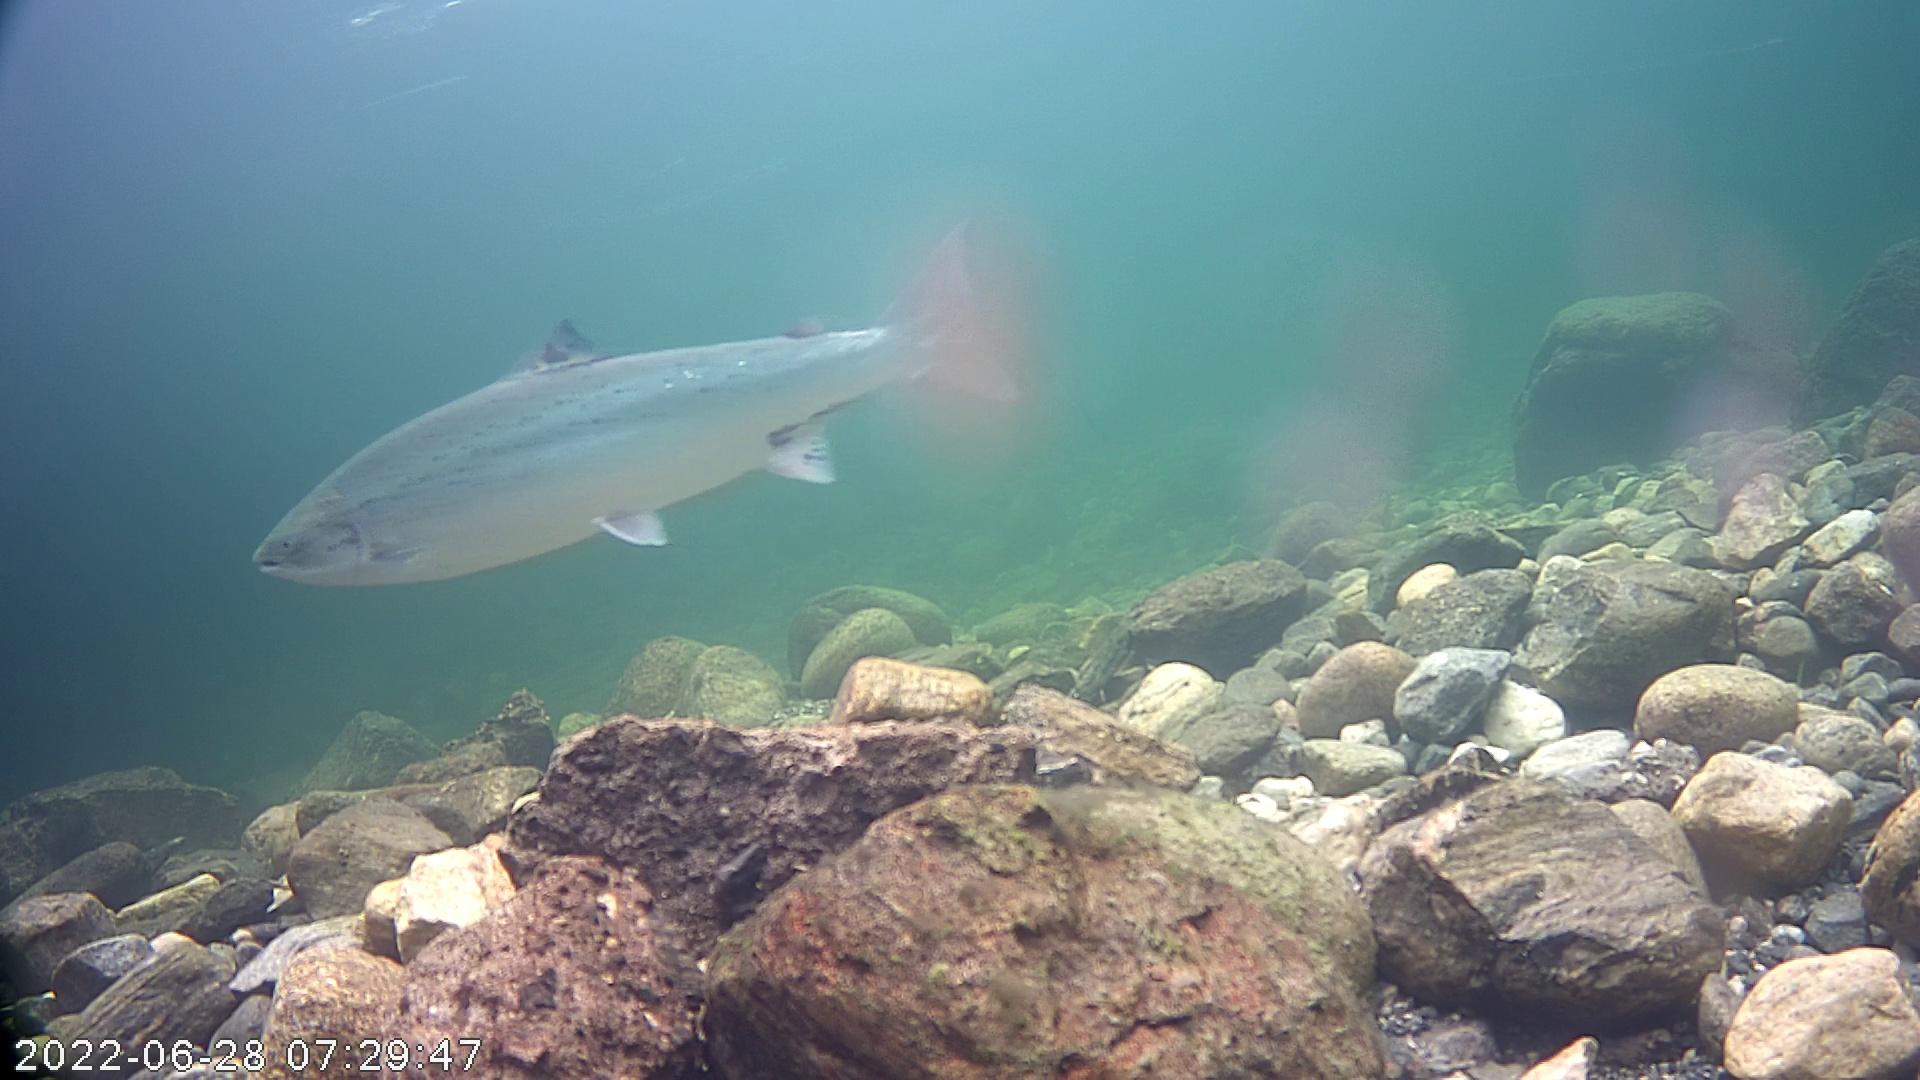salmon: (240, 179, 1046, 633)
